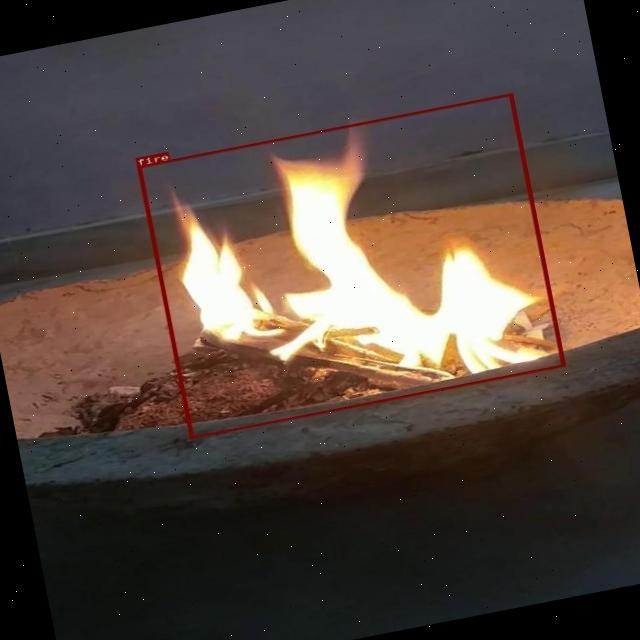fire: (137, 93, 566, 439)
